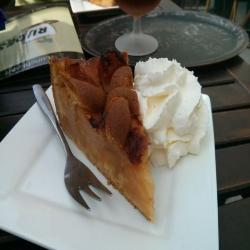apple_pie: (47, 56, 156, 220)
chantilly: (133, 52, 211, 175)
